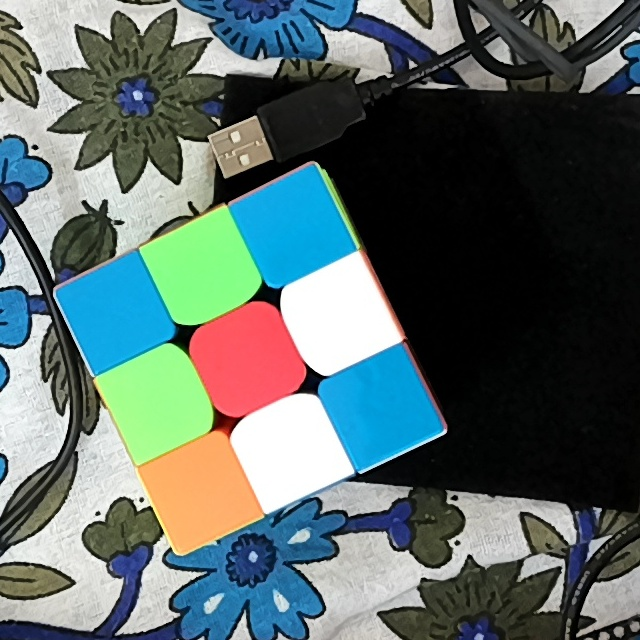tile: (210, 325, 284, 395), (121, 367, 193, 435), (303, 282, 373, 351), (347, 373, 416, 442), (253, 415, 325, 481), (166, 457, 234, 526), (169, 236, 236, 305), (258, 196, 328, 262), (81, 281, 151, 346)
